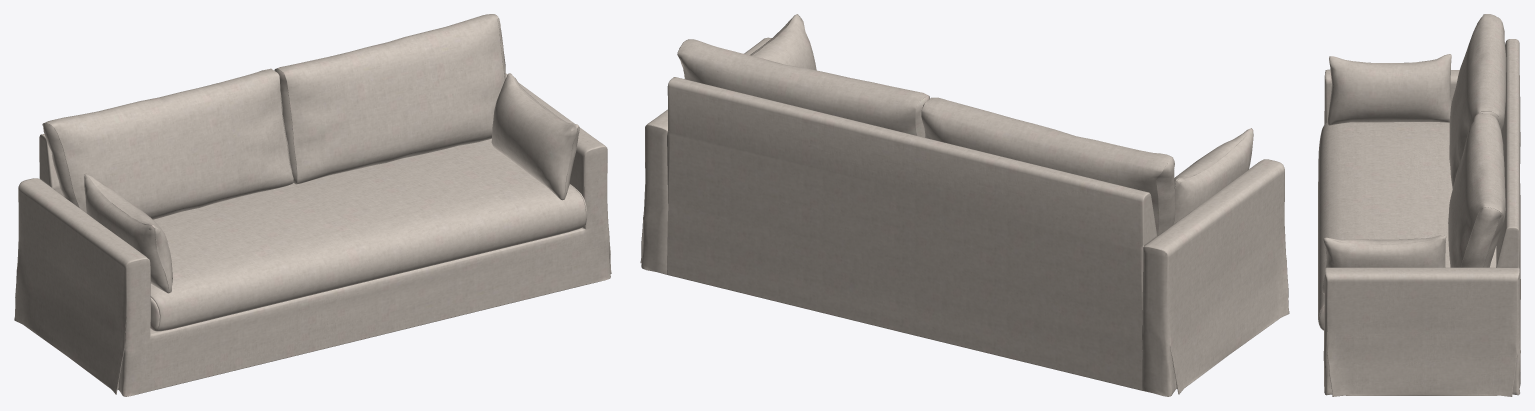
The model's file is hyltarp_sofa_gransel_natural.glb.
3 views of the same model, side by side, from view 1: azimuth 30°, elevation 25°; view 2: azimuth 150°, elevation 25°; view 3: azimuth 270°, elevation 25° (orthographic). The views are drawn at different scales.
Parts seen in each view (by area): view 1: Mesh_0.001; view 2: Mesh_0.001; view 3: Mesh_0.001.
Part boxes in pixels (x1,y1,x2,y2): Mesh_0.001: [14, 14, 611, 396]; Mesh_0.001: [640, 14, 1289, 396]; Mesh_0.001: [1318, 14, 1520, 396].
Size of the model in its own units: 2.32 by 0.91 by 0.93.
1 material, 1 textured.
